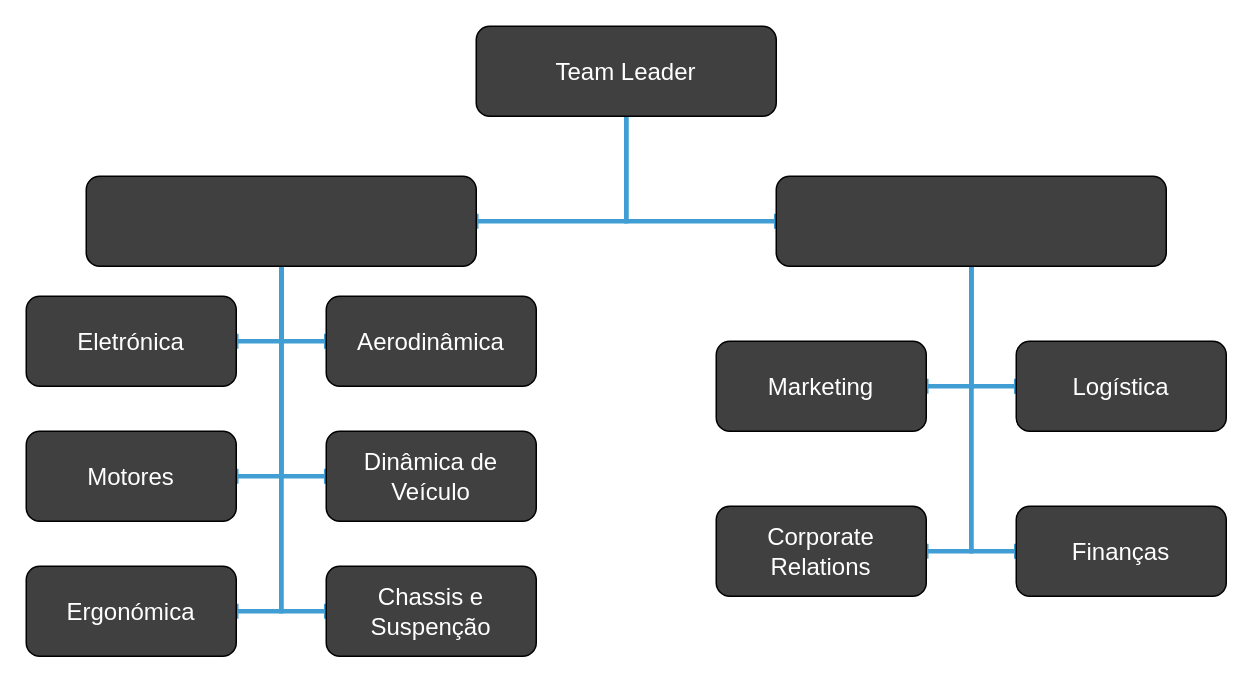
This 1253x683 diagram has some shape labels left out. Each missing label, with the centre of its shape:
Diretor de Estratégia e Negócios: the point at 970,220
Diretor Técnico: the point at 280,220
